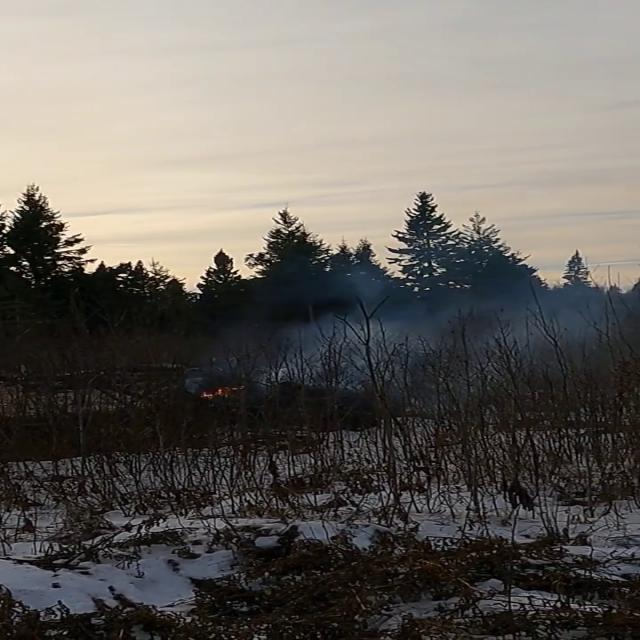Smoke: (204, 264, 606, 382)
